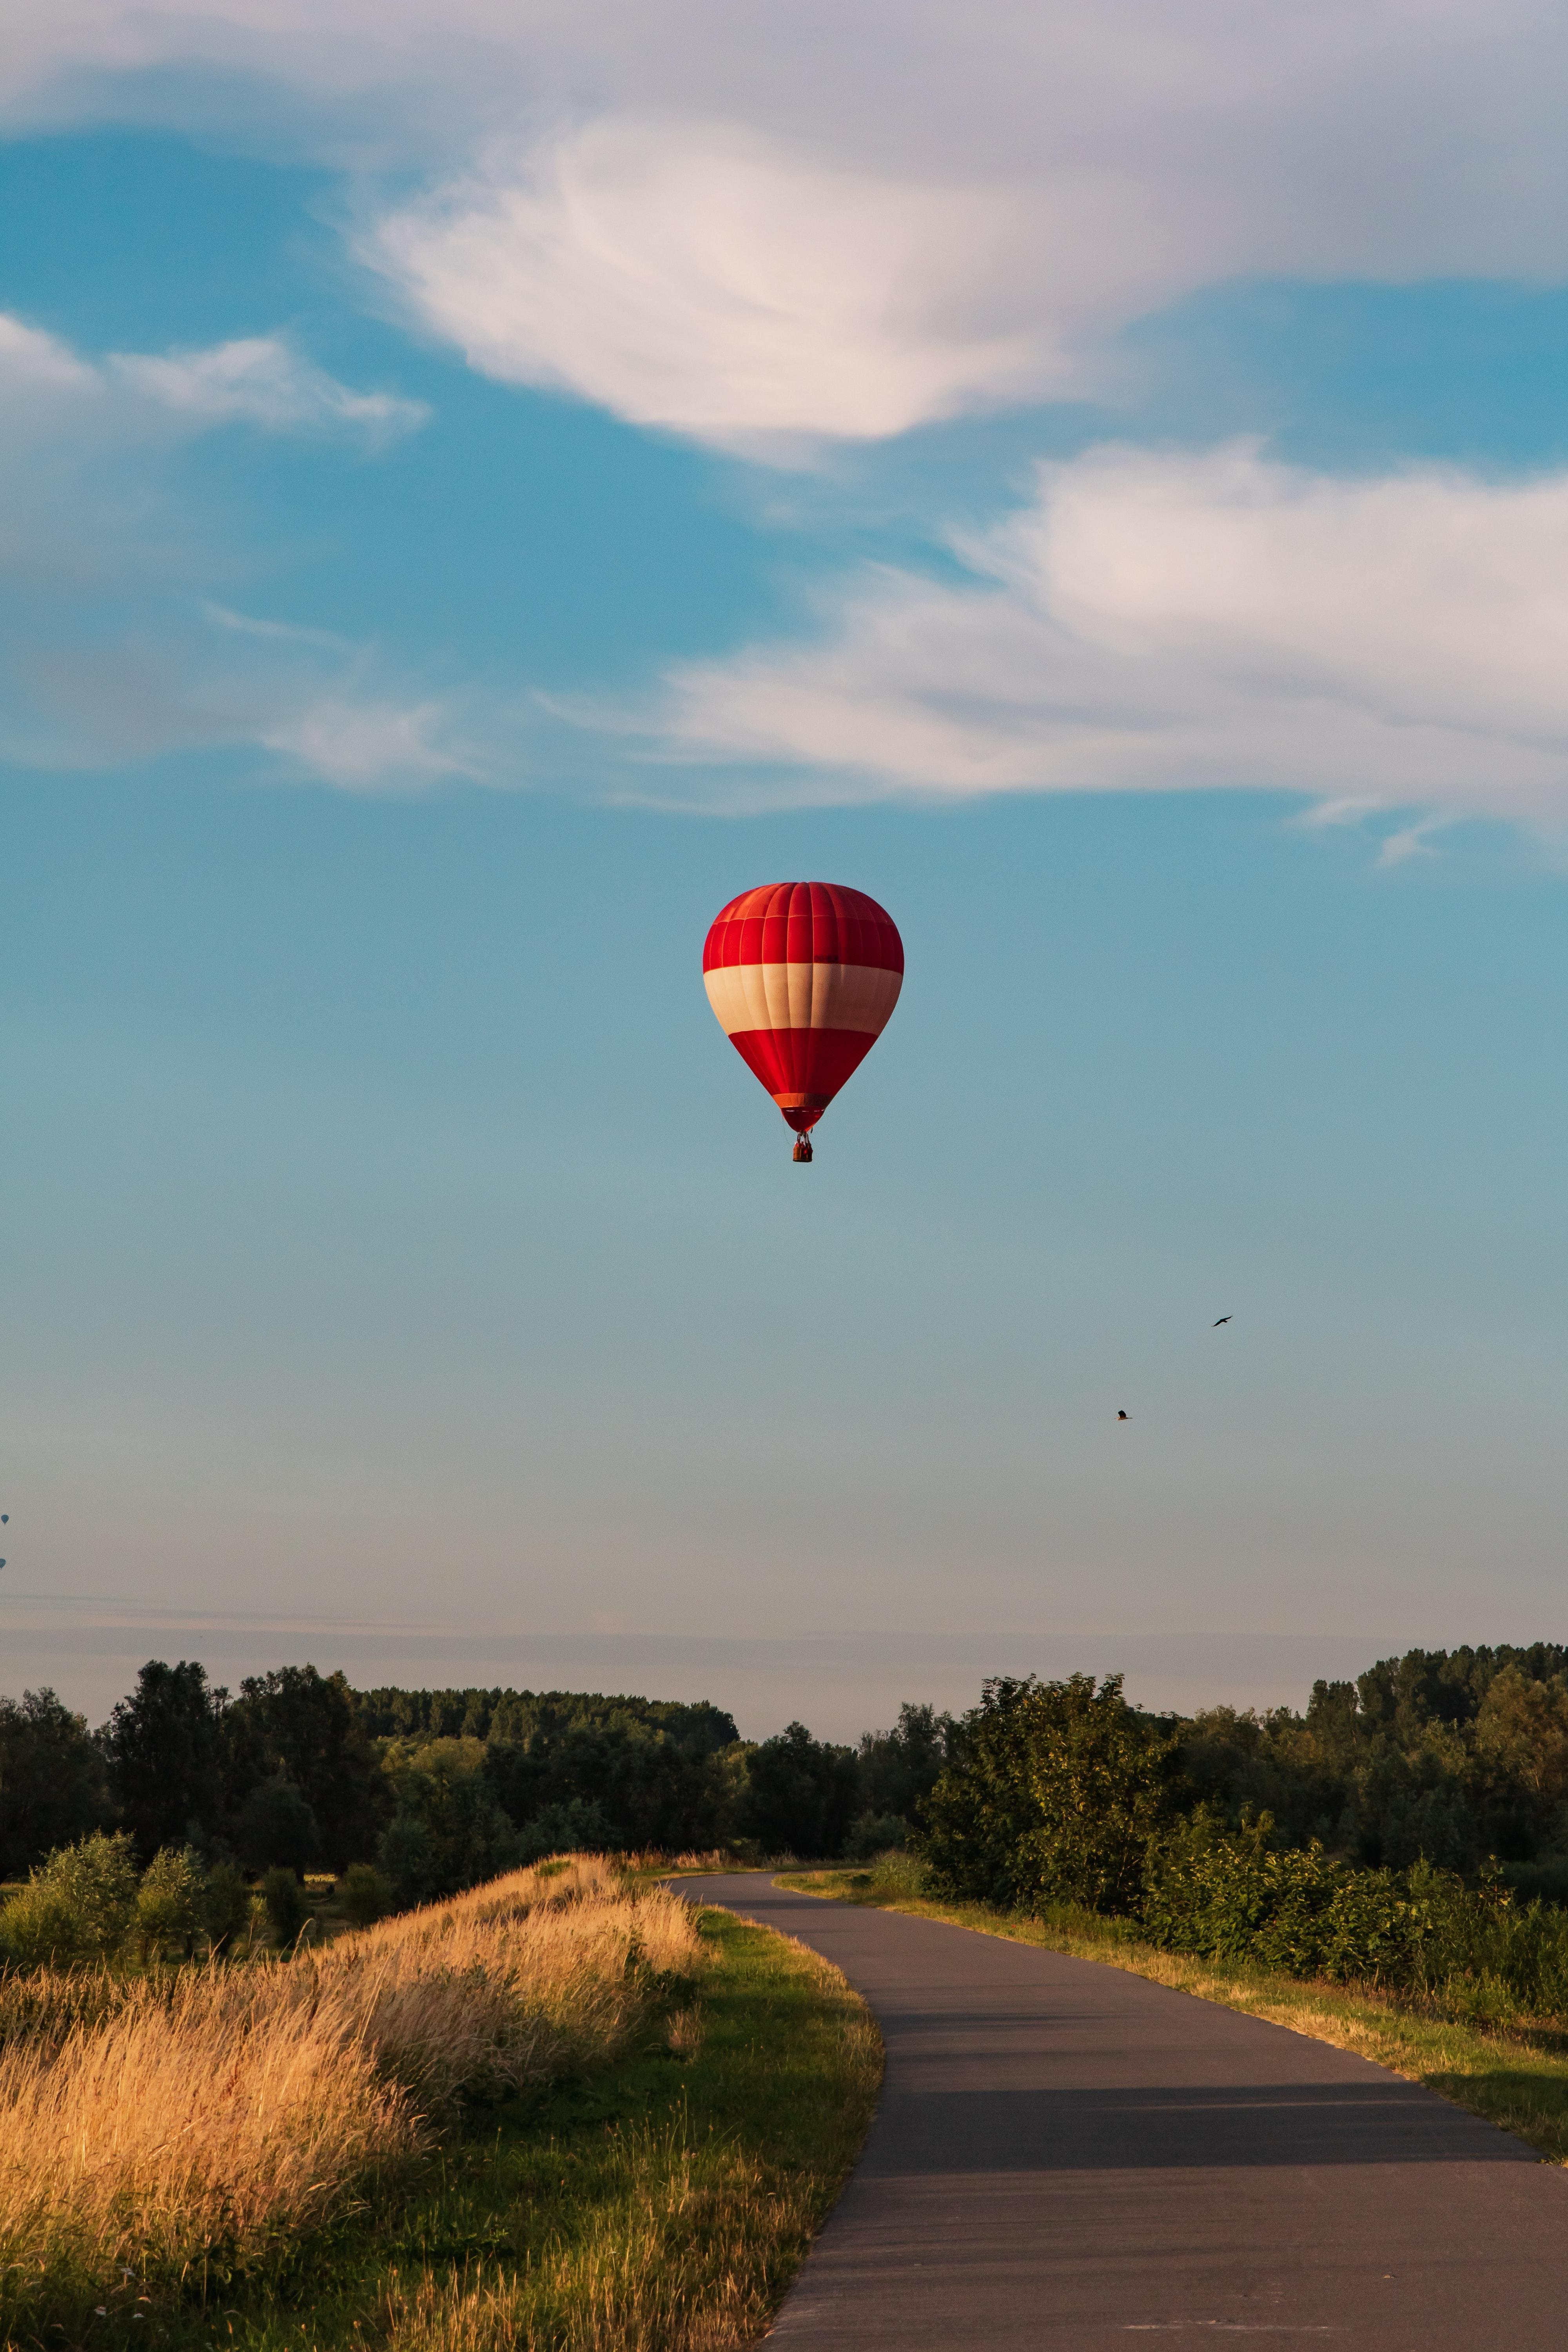hot air ballon: (702, 884, 905, 1162)
